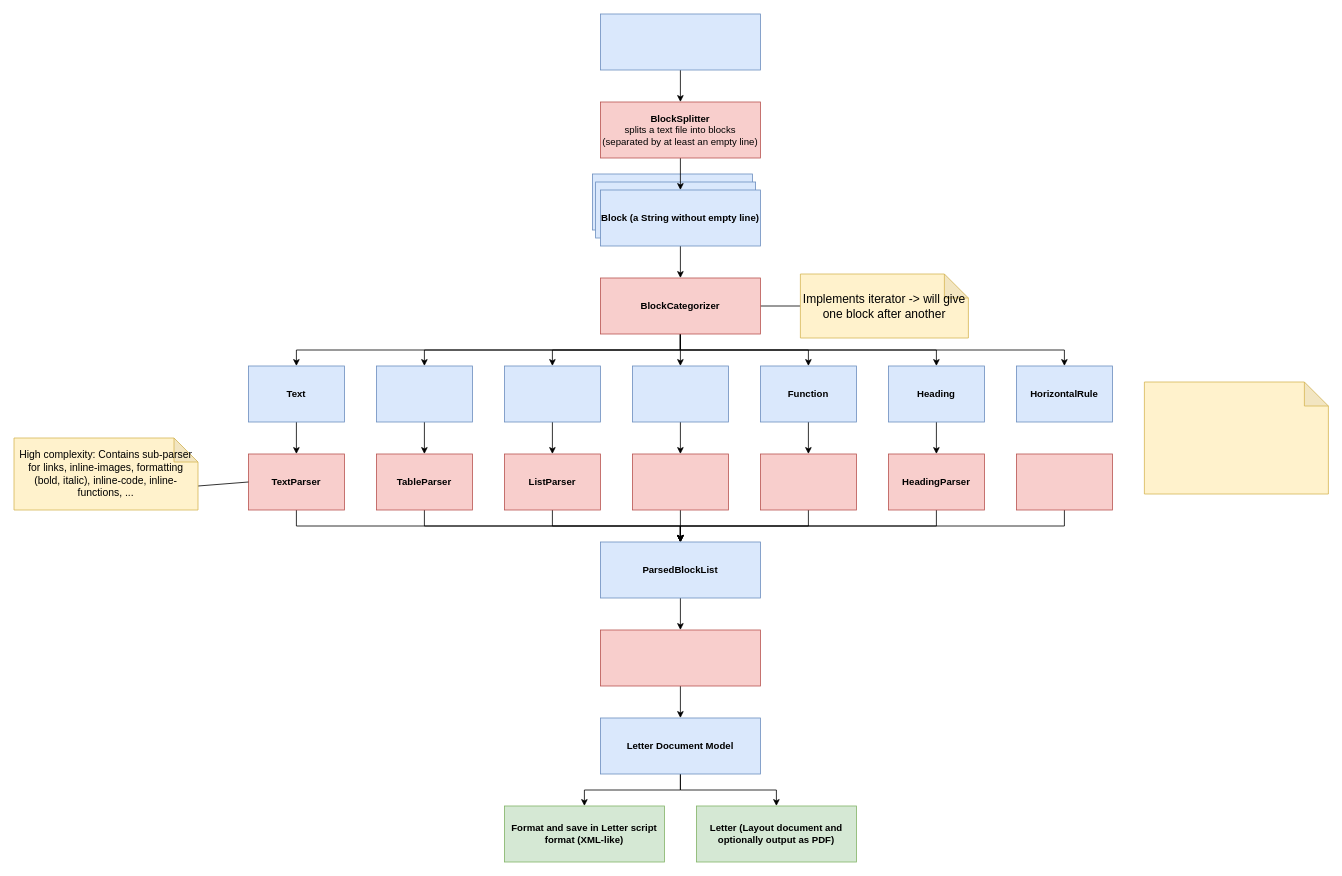
Some shapes in this 1342 by 876 pixel diagram are drawn without their labels. Here are the shapes that lost their labels. From the top down, the centre of each, then its label:
At point 680,41: "TextFile".
At point 424,393: "Table".
At point 552,393: "List".
At point 680,393: "Image".
At point 1236,437: "Potential for multithreading".
At point 680,481: "ImageParser".
At point 808,481: "FunctionParser".
At point 1064,481: "HorizontalRuleParser".
At point 680,657: "Letter Document Transformer (AST / DOM)".
